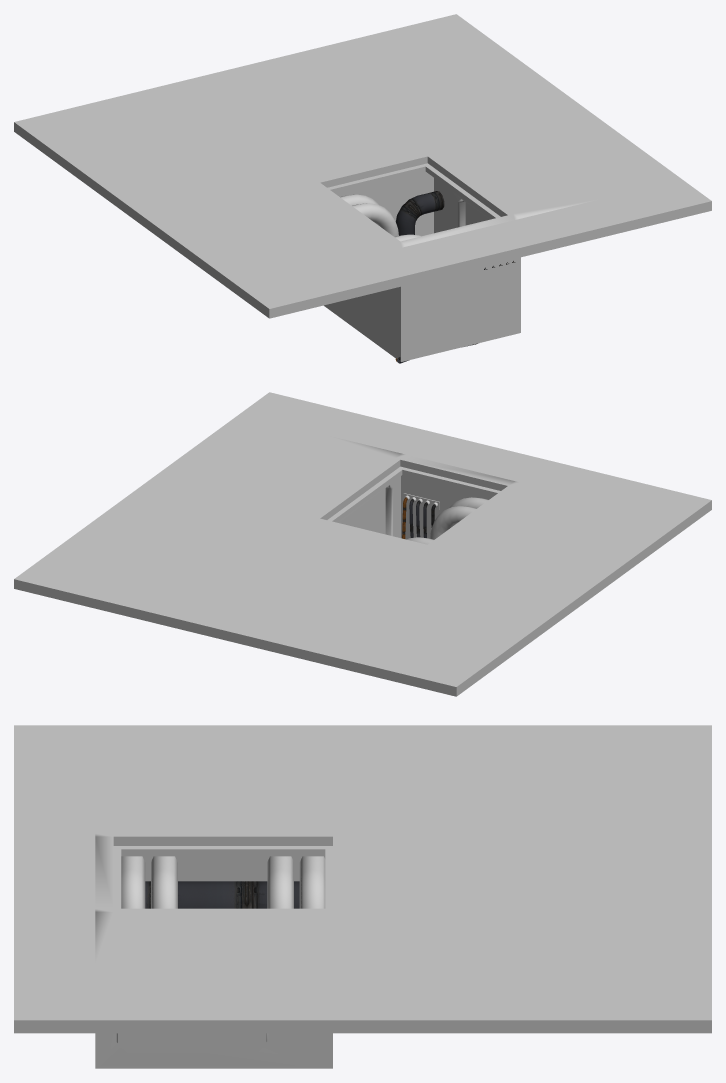
File: Prop_Floor_Base_09.fbx
3 renders of one model, top to bottom at view 1: azimuth 30°, elevation 25°; view 2: azimuth 150°, elevation 25°; view 3: azimuth 270°, elevation 25°, orthographic. The views are drawn at different scales.
Visible parts, largest first — view 1: Prop_Floor_Base_09; view 2: Prop_Floor_Base_09; view 3: Prop_Floor_Base_09.
Boxes of the visible parts, bbox=[...] form: Prop_Floor_Base_09: bbox=[14, 14, 711, 363]; Prop_Floor_Base_09: bbox=[14, 392, 711, 696]; Prop_Floor_Base_09: bbox=[14, 725, 711, 1068].
Bounding box in the file's own units: 6000 × 6000 × 1509.
